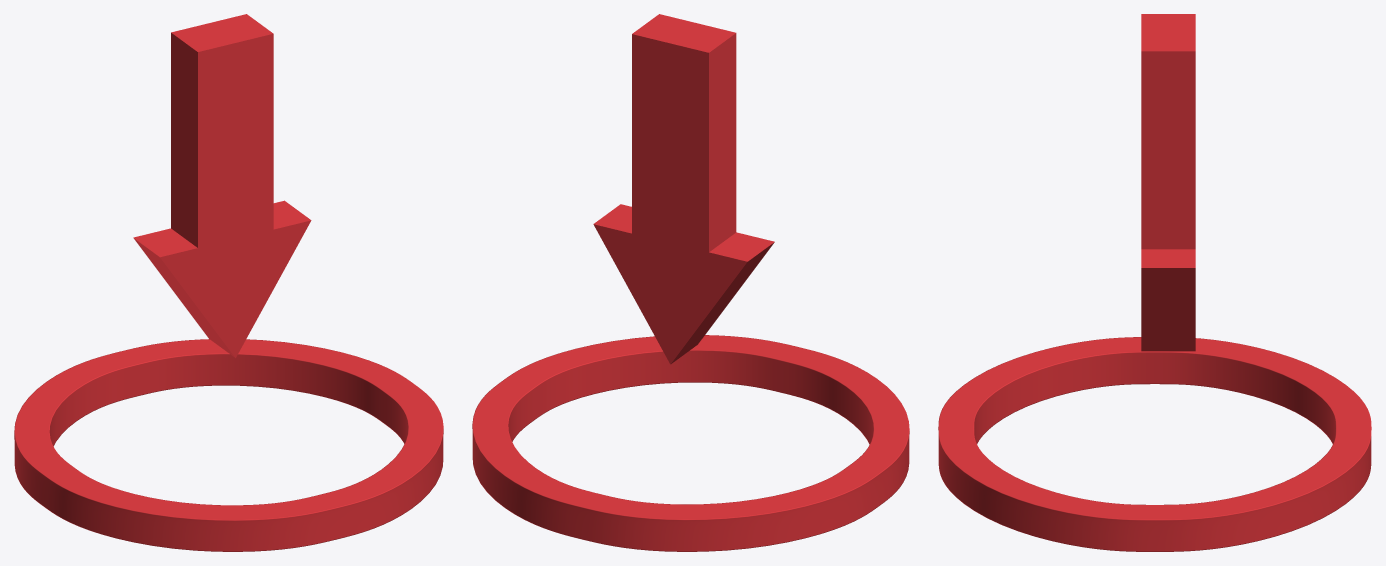
Rendered from focusArrow.fbx.
3 views of the same model, side by side, from view 1: azimuth 30°, elevation 25°; view 2: azimuth 150°, elevation 25°; view 3: azimuth 270°, elevation 25° (orthographic).
Parts seen in each view (by area): view 1: NurbsCircle, Plane; view 2: NurbsCircle, Plane; view 3: NurbsCircle, Plane.
Part boxes in pixels (x1,y1,x2,y2): NurbsCircle: [14, 339, 443, 551]; Plane: [133, 14, 311, 357]; NurbsCircle: [472, 335, 909, 551]; Plane: [593, 14, 774, 364]; NurbsCircle: [938, 337, 1371, 551]; Plane: [1141, 14, 1195, 351].
Size of the model in its own units: 490 by 534 by 490.
